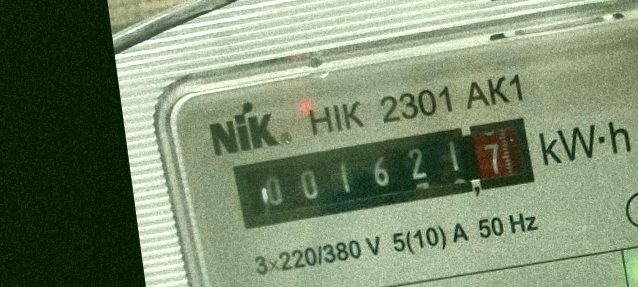0: (296, 164, 323, 204), (261, 171, 286, 208)
1: (335, 158, 354, 196), (444, 136, 463, 174)
2: (405, 144, 431, 182)
6: (369, 153, 392, 189)
7: (480, 139, 505, 177)
screen: (227, 113, 543, 235)
